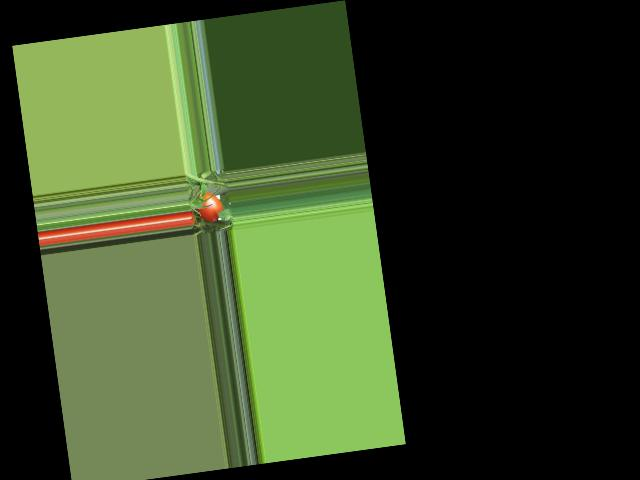tomato: (194, 190, 224, 224)
